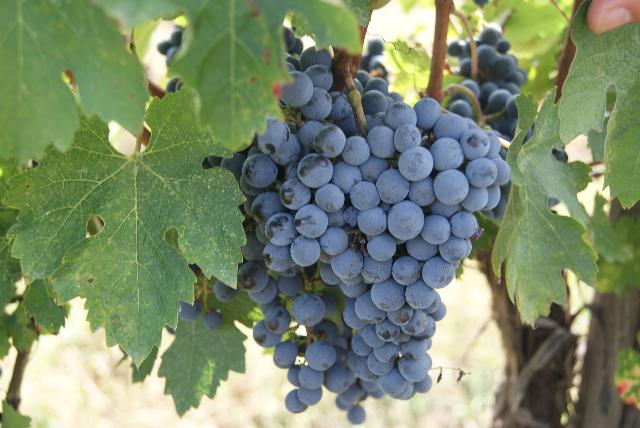grapes: (230, 64, 511, 399), (446, 22, 528, 140), (449, 91, 470, 119)
